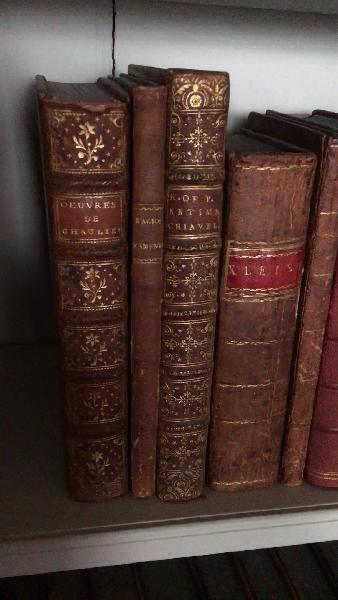Aa6-6: (41, 96, 132, 513)
Aa6-7: (122, 80, 170, 510)
Aa6-8: (159, 60, 220, 503)
Aa6-9: (215, 145, 302, 504)
